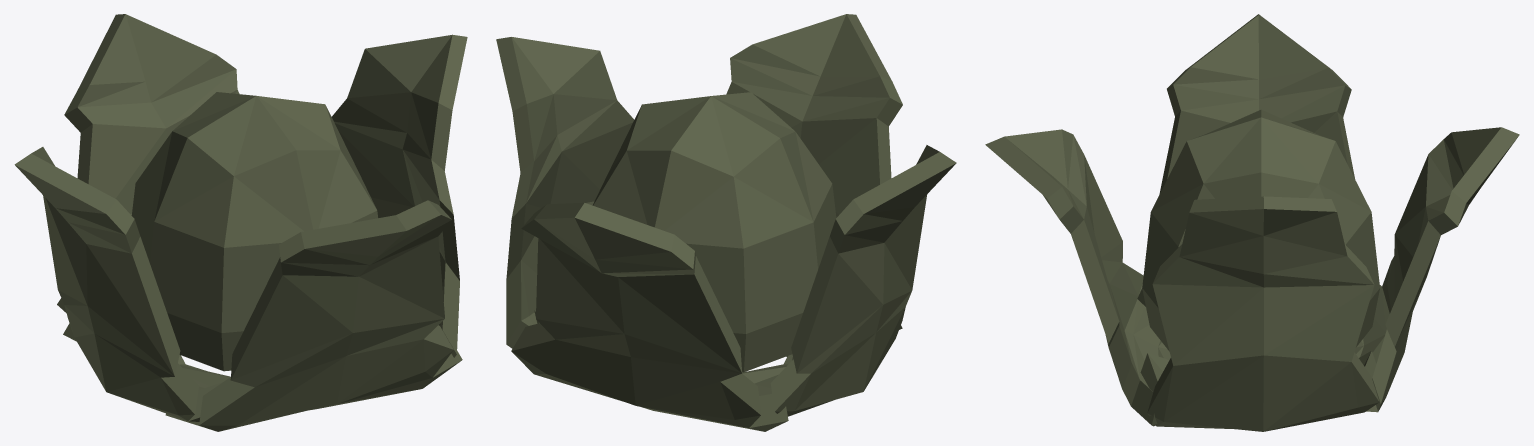
File: crop_cabbage.s3.glb
The picture shows the model from 3 angles, left to right: view 1: azimuth 30°, elevation 25°; view 2: azimuth 150°, elevation 25°; view 3: azimuth 270°, elevation 25°; orthographic projection. The views are drawn at different scales.
Bounding box in the file's own units: 0.5969 × 0.3655 × 0.6479.
